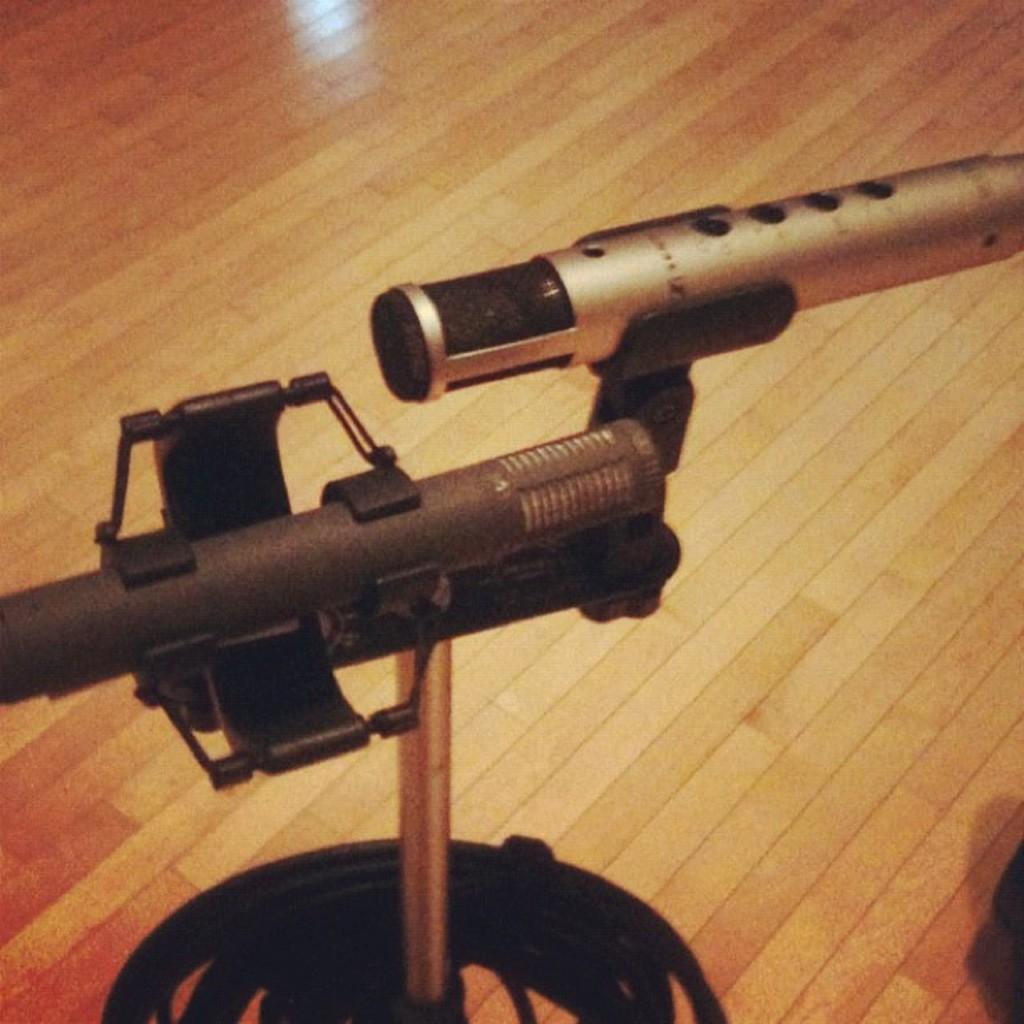Rifle: (0, 154, 1022, 1022)
